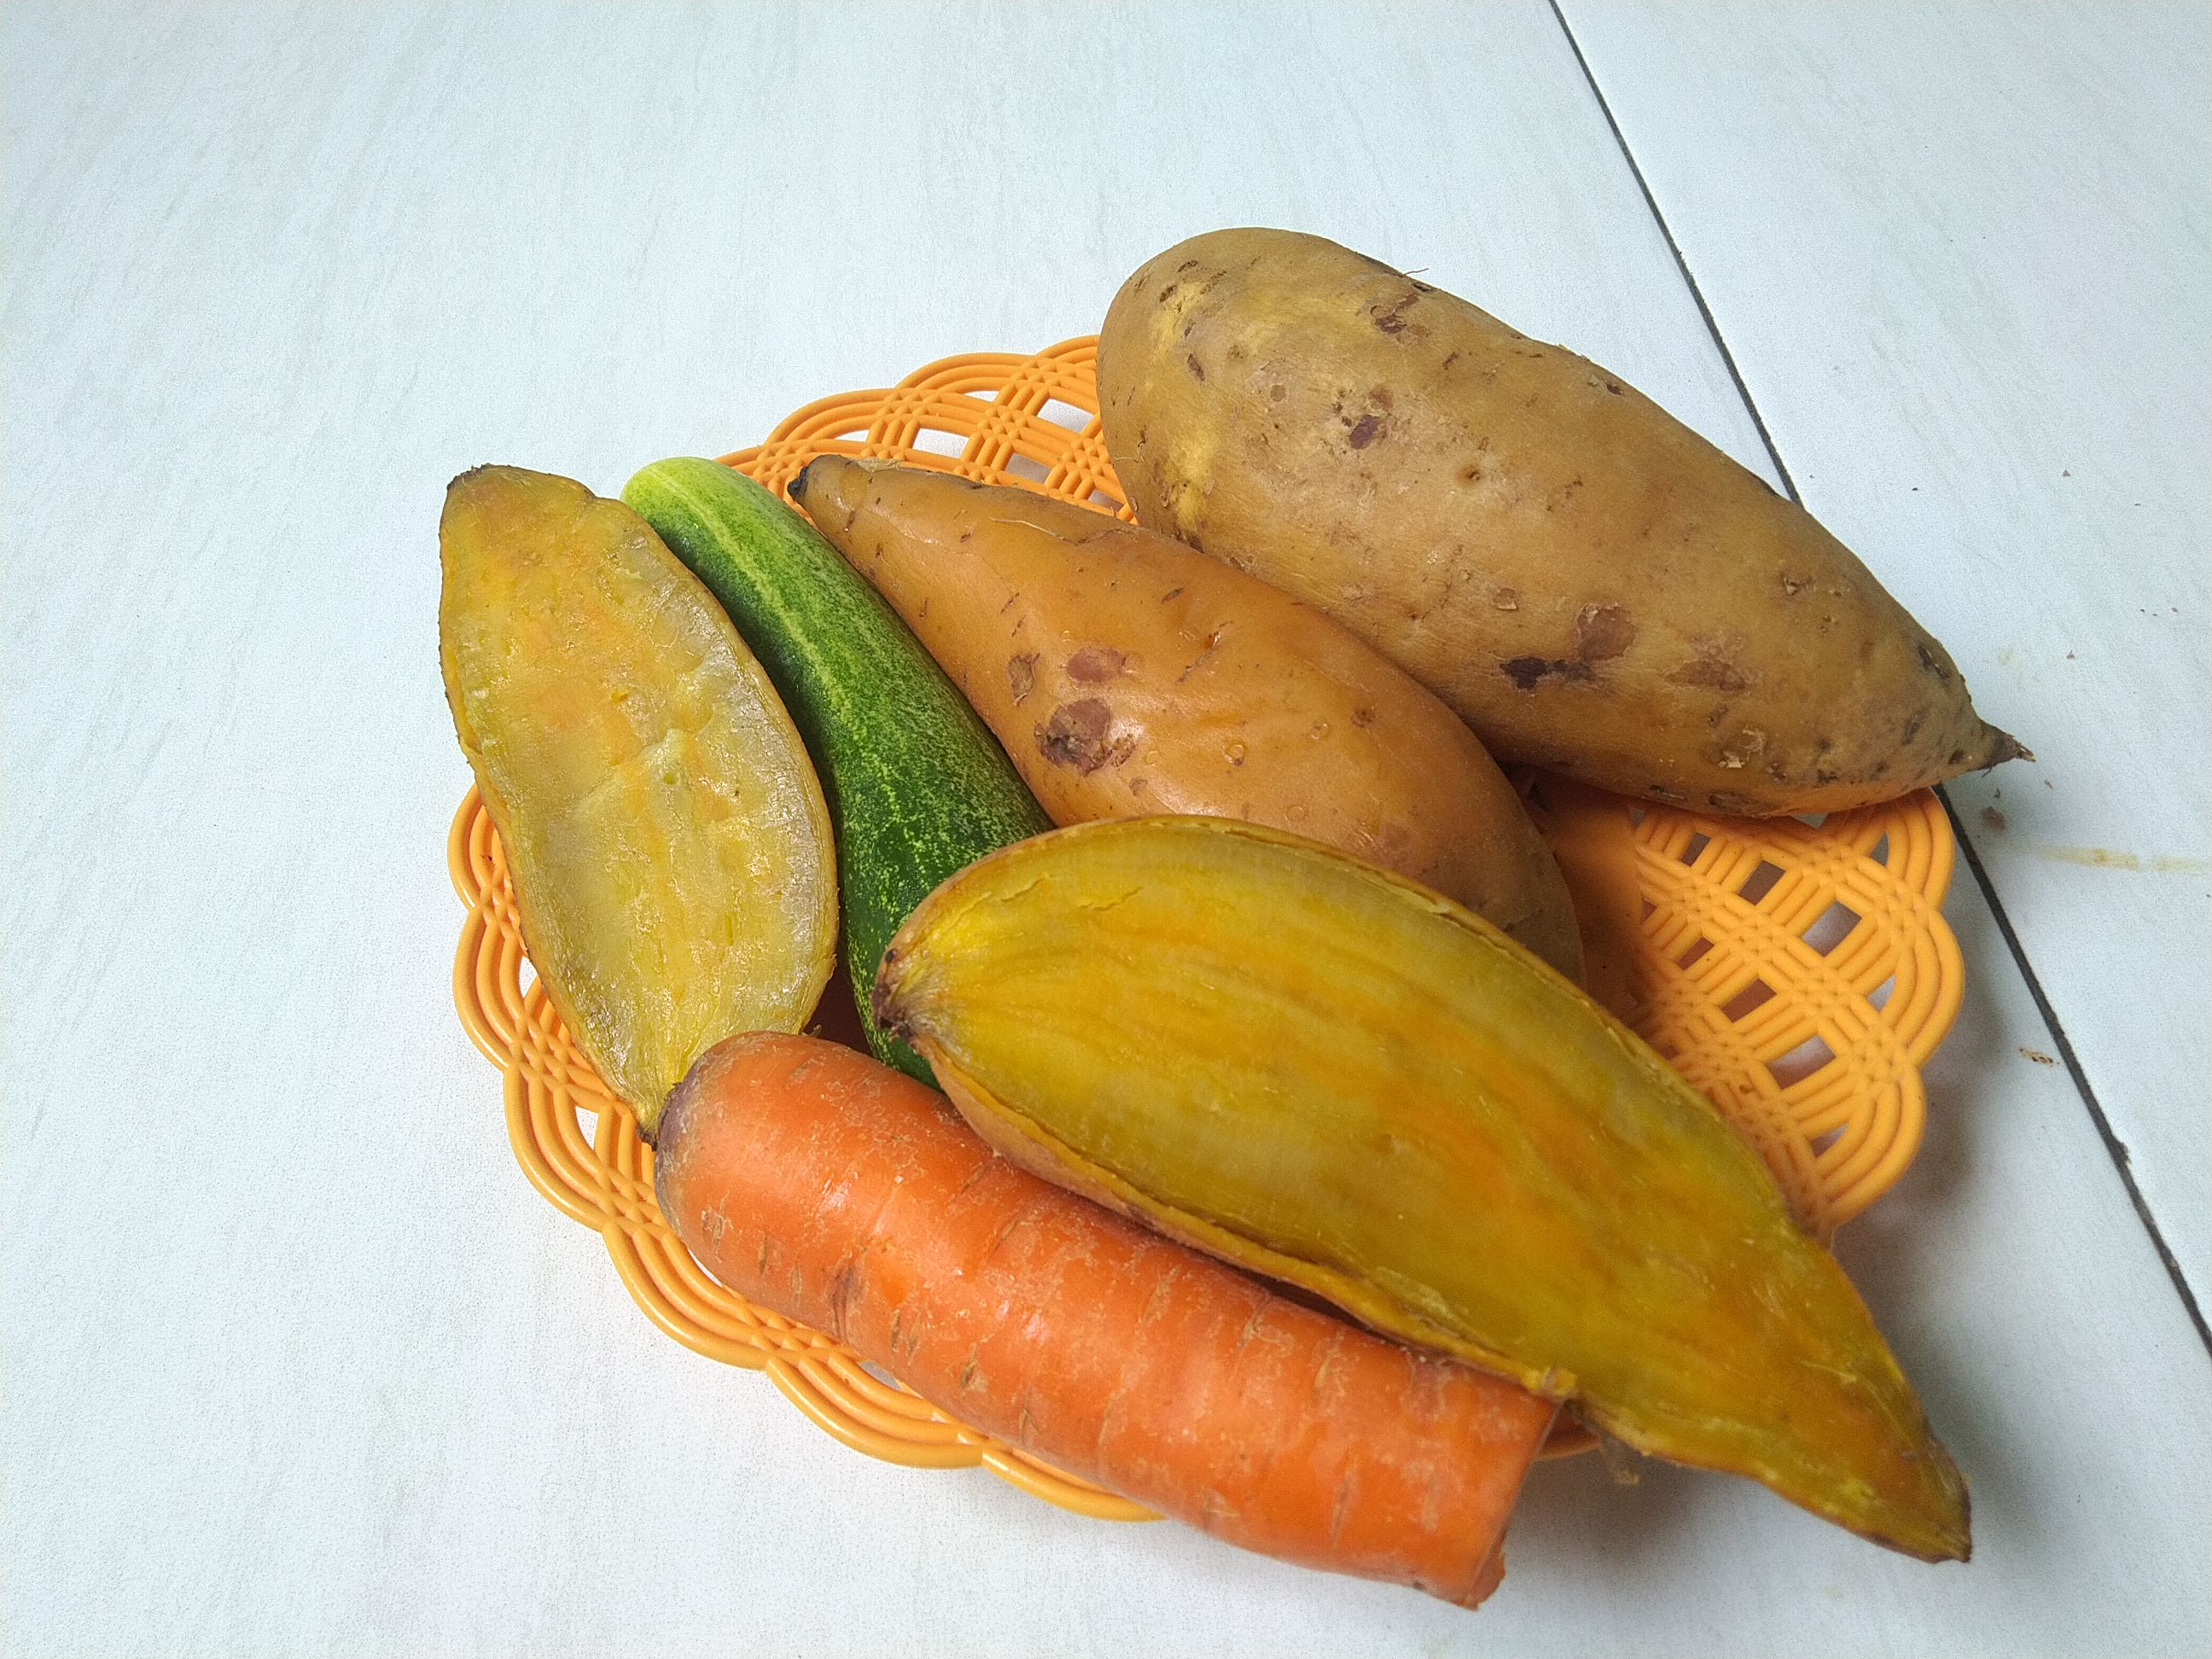ubi cilembu: (986, 833, 1987, 1537), (1097, 204, 2043, 828), (415, 450, 838, 1119)
